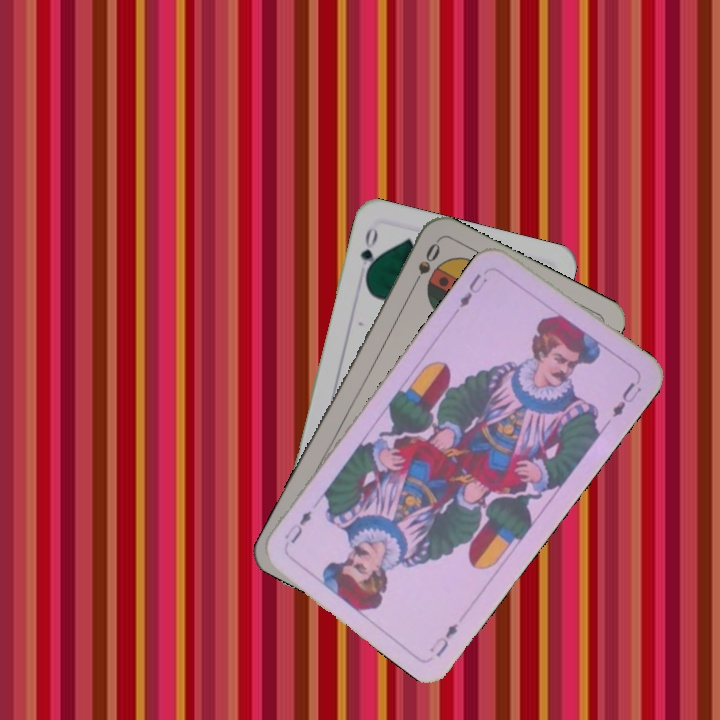EU: (425, 619, 461, 660), (455, 269, 490, 311)
GO: (356, 224, 381, 282)
SO: (407, 238, 443, 292)
